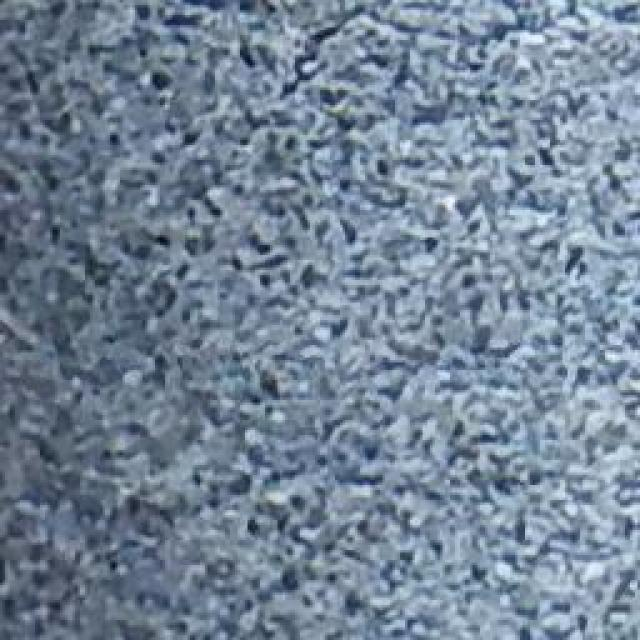concrete-crack: (264, 0, 632, 108)
